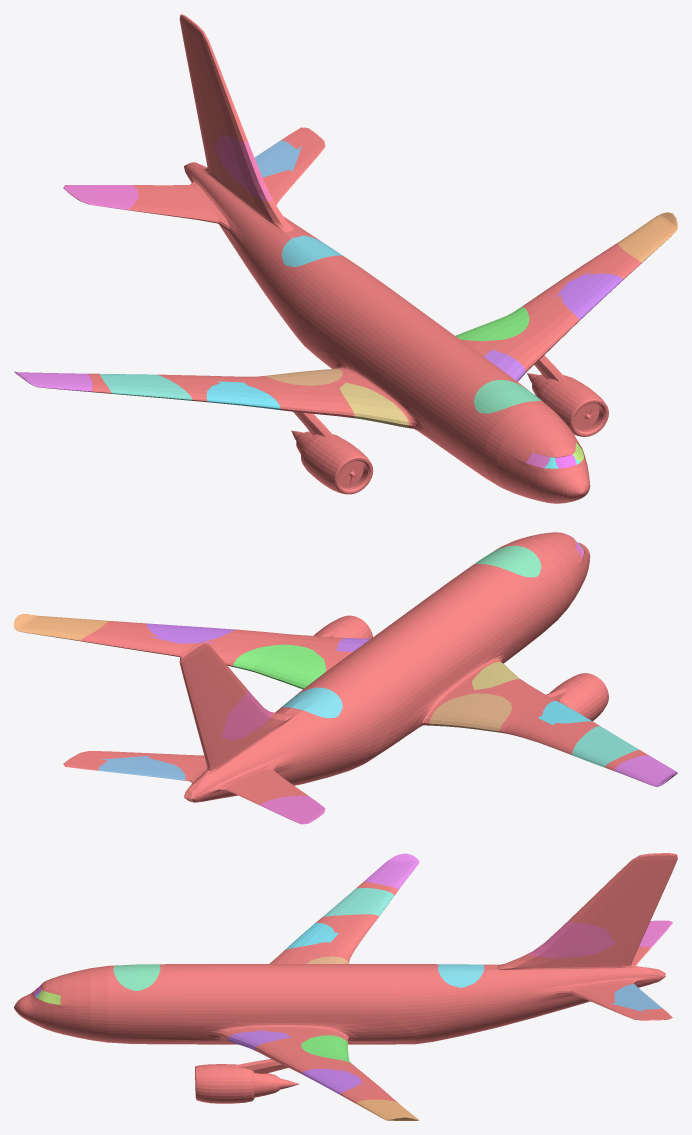
3 renders of one model, top to bottom at view 1: azimuth 30°, elevation 25°; view 2: azimuth 150°, elevation 25°; view 3: azimuth 270°, elevation 25°, orthographic. The views are drawn at different scales.
Visible parts, largest first — view 1: Low_mat_id, Langas_mat_id; view 2: Low_mat_id; view 3: Low_mat_id.
Part boxes in pixels (x1,y1,x2,y2): Low_mat_id: (14, 14, 677, 503); Langas_mat_id: (526, 442, 583, 468); Low_mat_id: (14, 532, 677, 824); Low_mat_id: (14, 853, 677, 1120).
Bounding box in the file's own units: 929 × 330 × 987.
